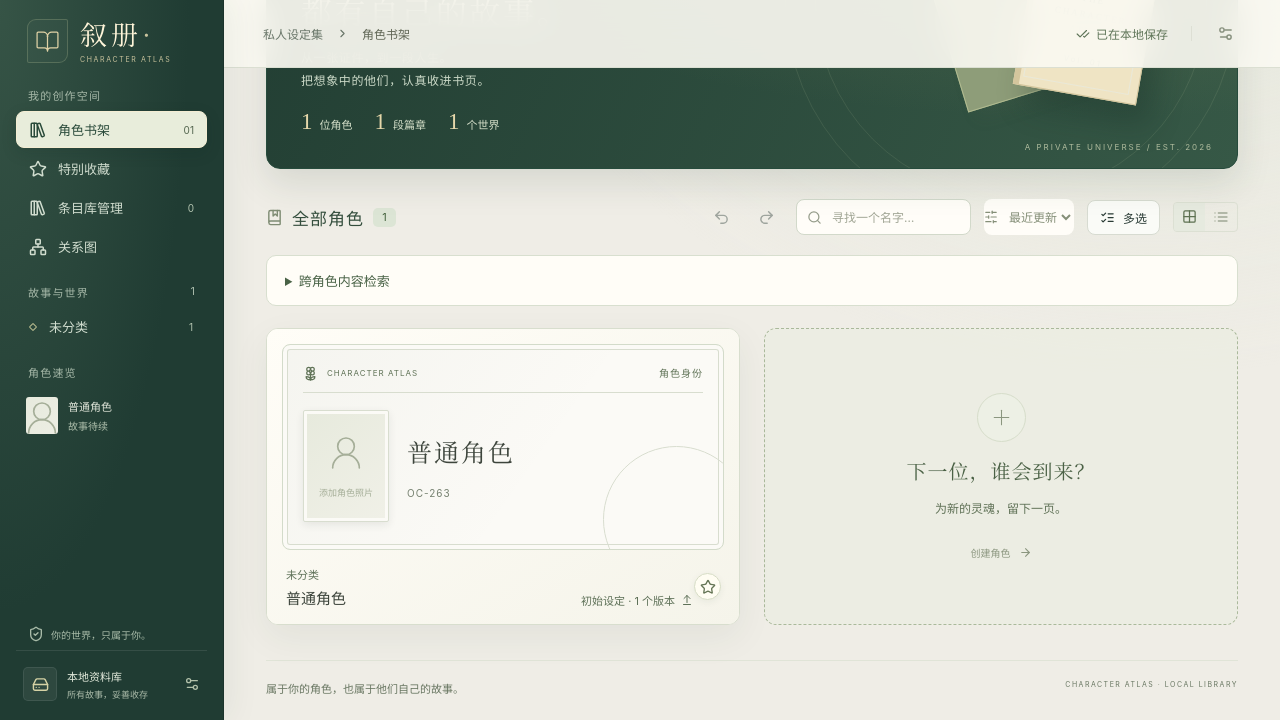
Test: 未启用秘密身份时名字为普通标题，没有照片时无放大按钮
(page scrolled)
Click the button with aria-label "打开普通角色的档案".
click(503, 477)  # box [267, 329, 739, 624]
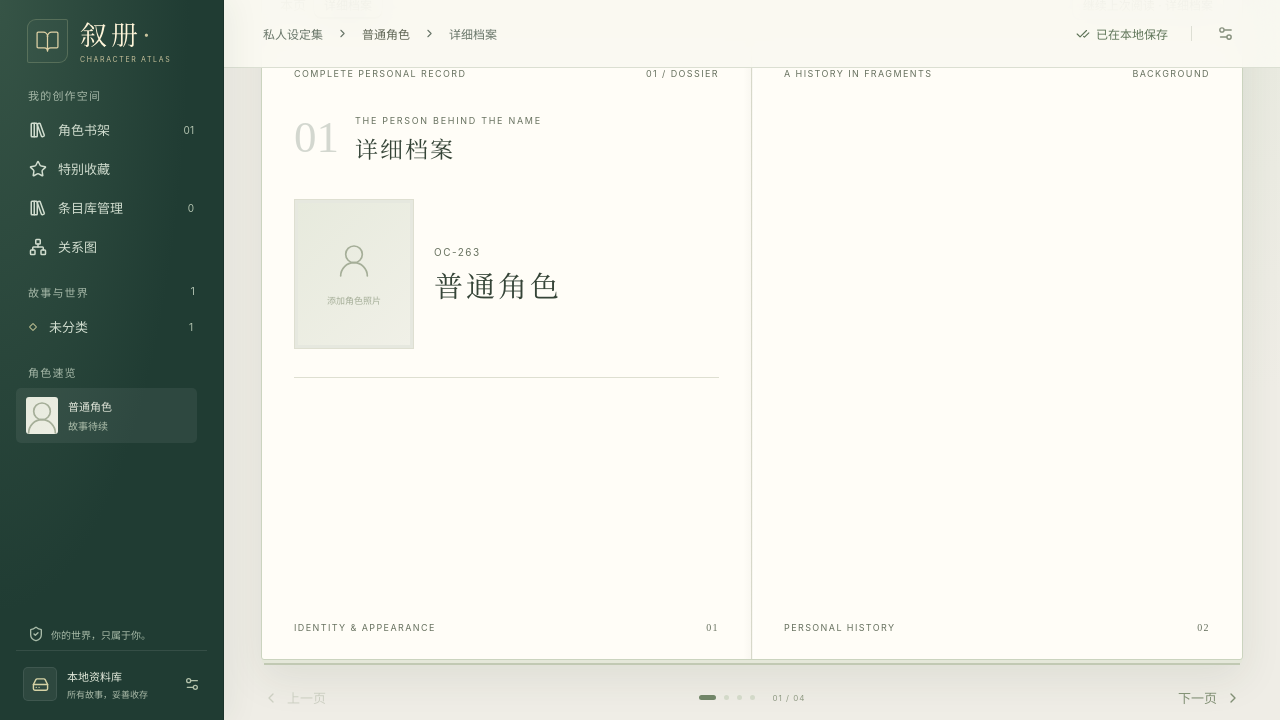
Expected: the heading "普通角色" is shown, [434, 263, 562, 306]
